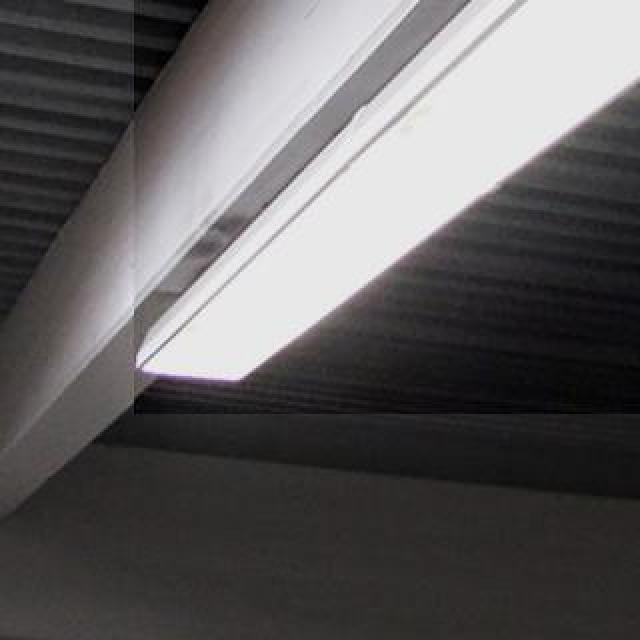fluorescent tube: (132, 0, 640, 408)
